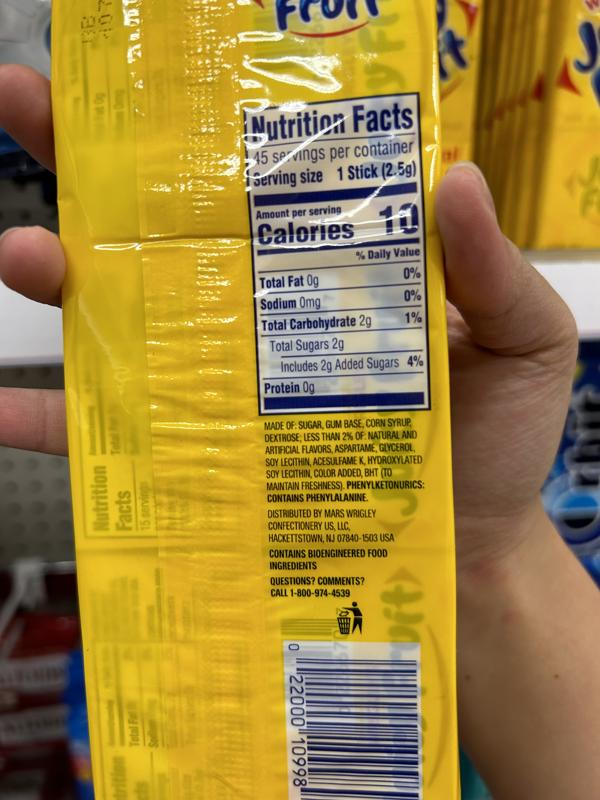ingredients: (263, 418, 427, 504)
